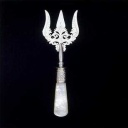fork: (36, 4, 92, 120)
